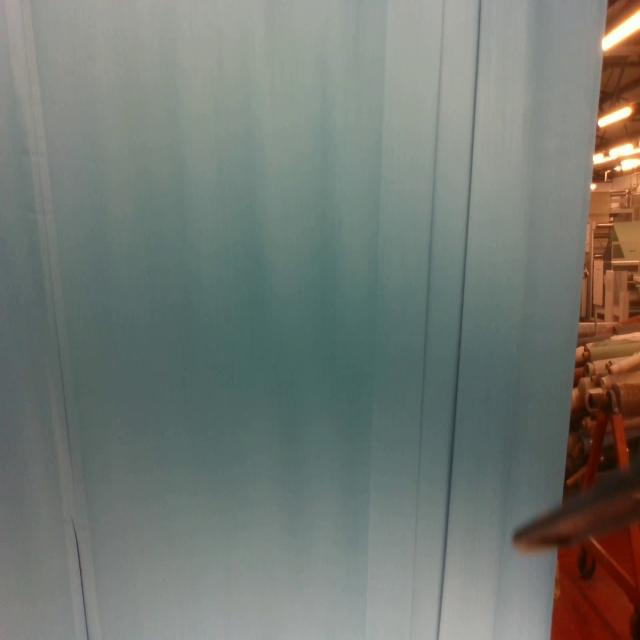crease: (17, 1, 100, 640), (410, 0, 485, 640)
